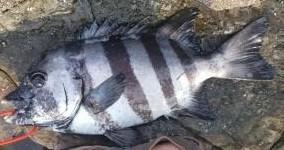fish: (5, 7, 272, 146)
